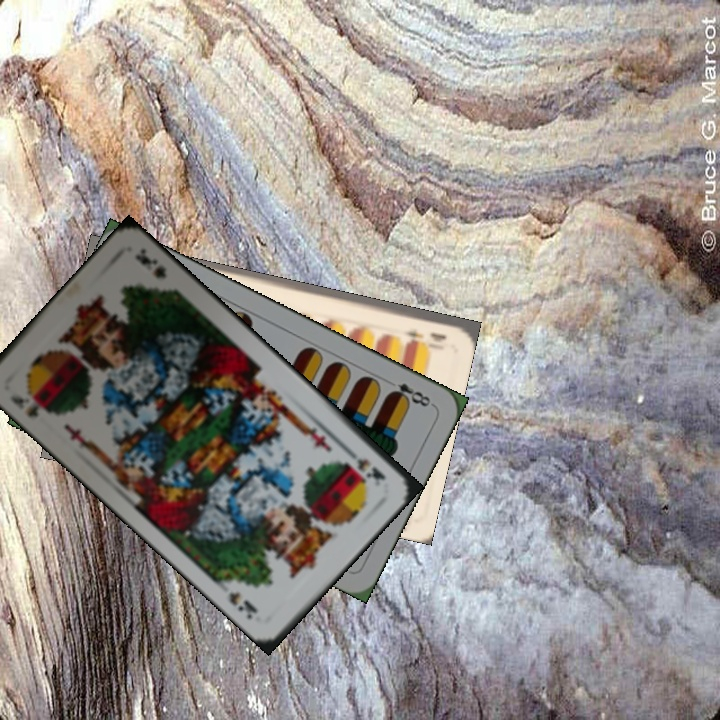E10: (399, 326, 450, 344)
E8: (382, 375, 436, 410)
SK: (341, 443, 389, 483), (6, 384, 55, 420)
